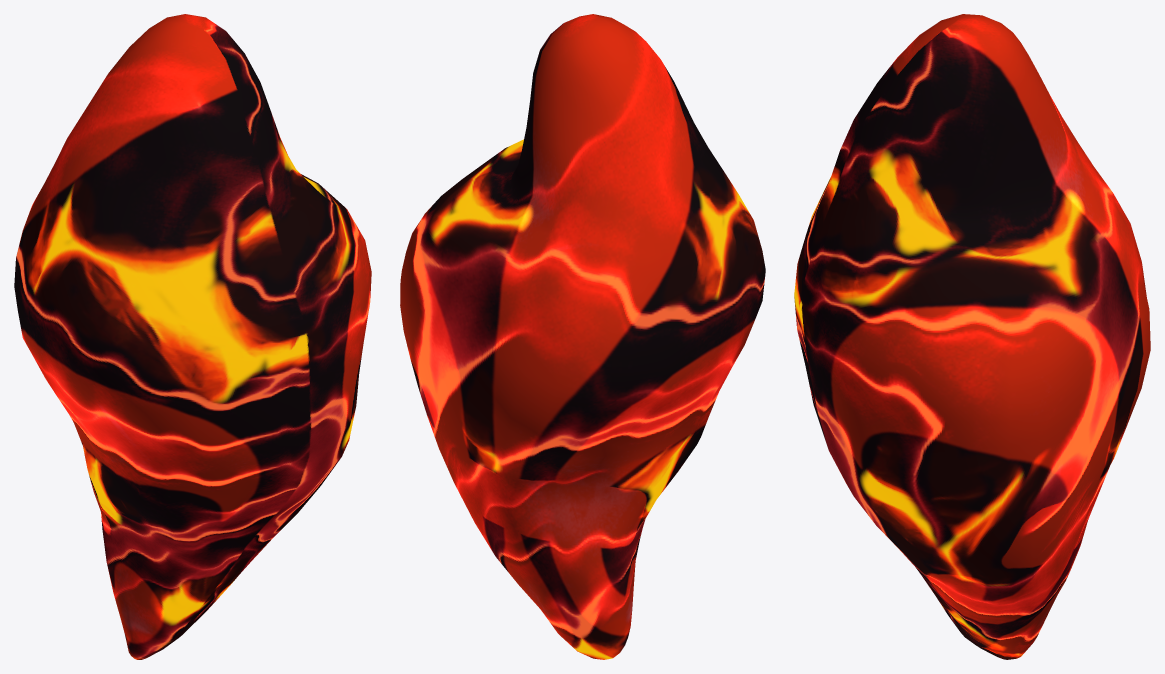
File: Crystal_unity.fbx
The picture shows the model from 3 angles, left to right: view 1: azimuth 30°, elevation 25°; view 2: azimuth 150°, elevation 25°; view 3: azimuth 270°, elevation 25°; orthographic projection. The views are drawn at different scales.
Parts seen in each view (by area): view 1: Crystal; view 2: Crystal; view 3: Crystal.
Part boxes in pixels (x1=…): Crystal: x1=14, y1=14, x2=371, y2=659; Crystal: x1=400, y1=14, x2=765, y2=659; Crystal: x1=794, y1=14, x2=1150, y2=659.
Size of the model in its own units: 155 by 293 by 145.
